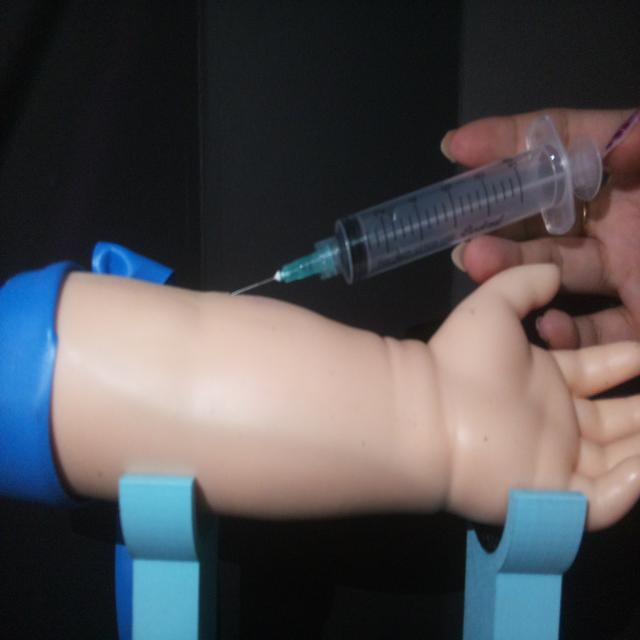24deg: (226, 109, 612, 301)
